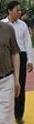boots: (0, 115, 7, 122), (16, 117, 24, 123)
hard-hat: (0, 59, 8, 73)
